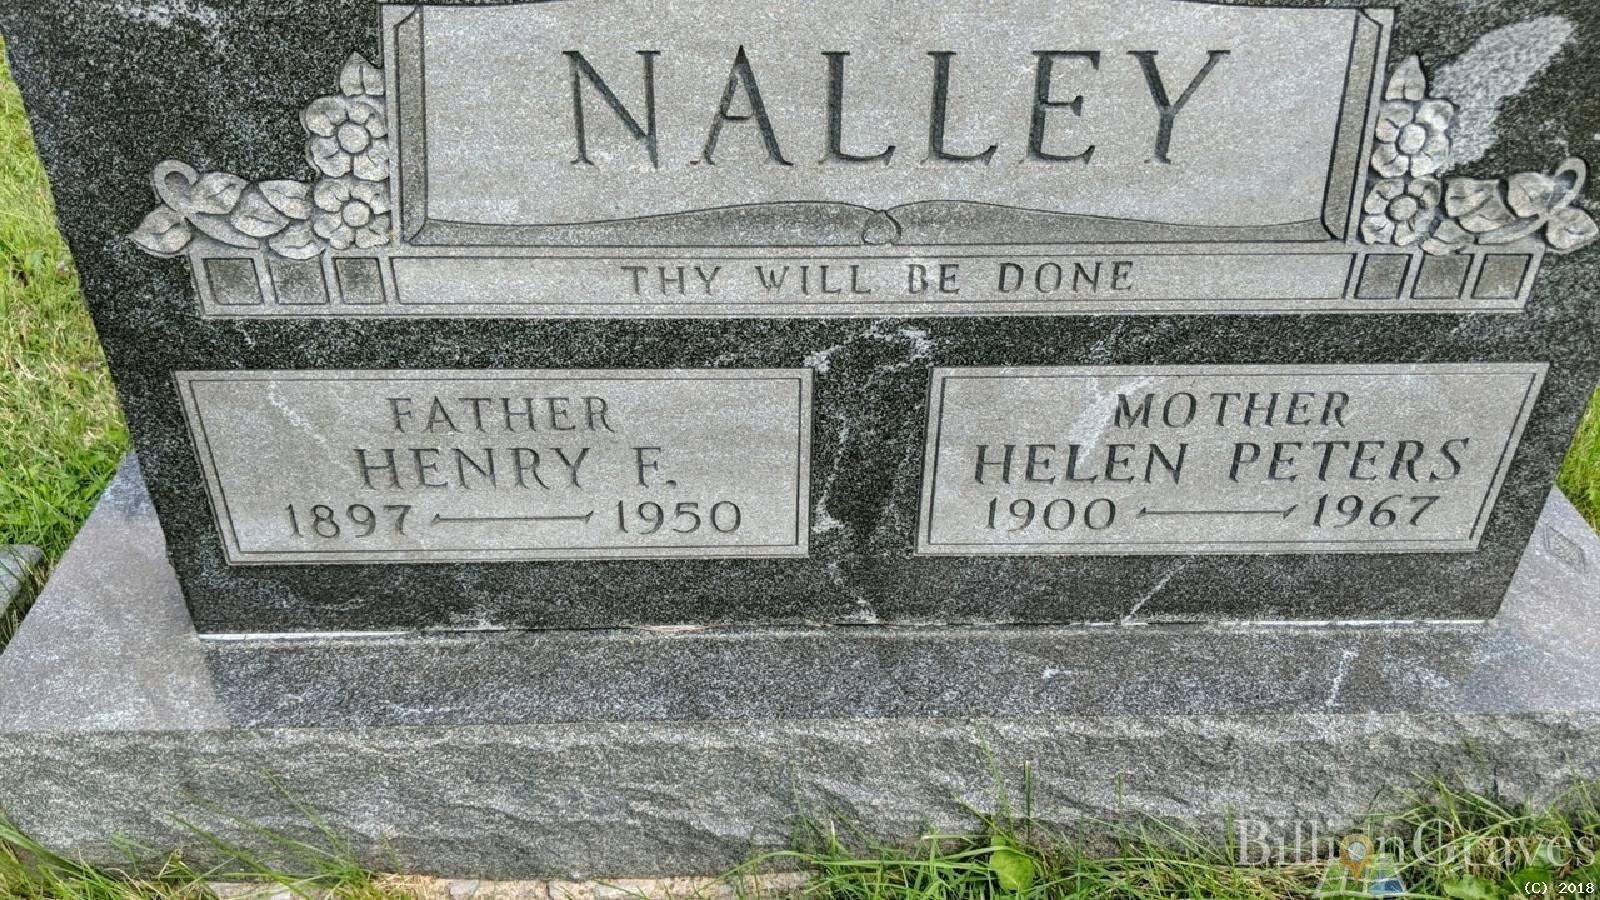upright: (0, 0, 1600, 858)
